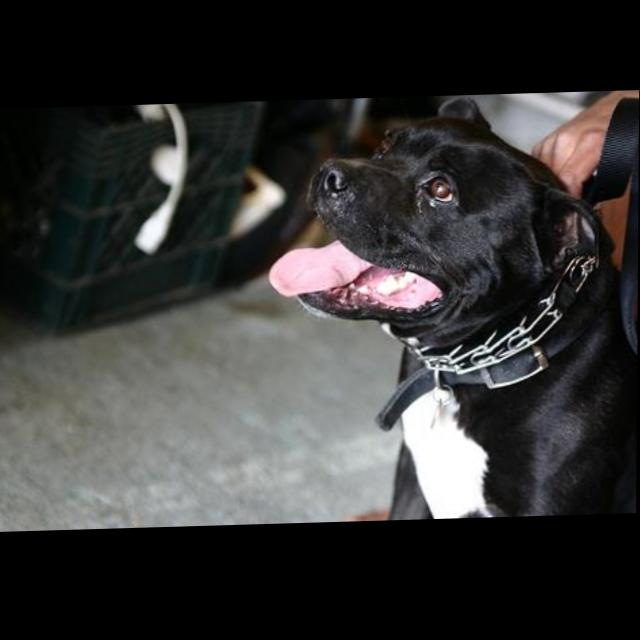amstaff: (270, 95, 640, 526)
